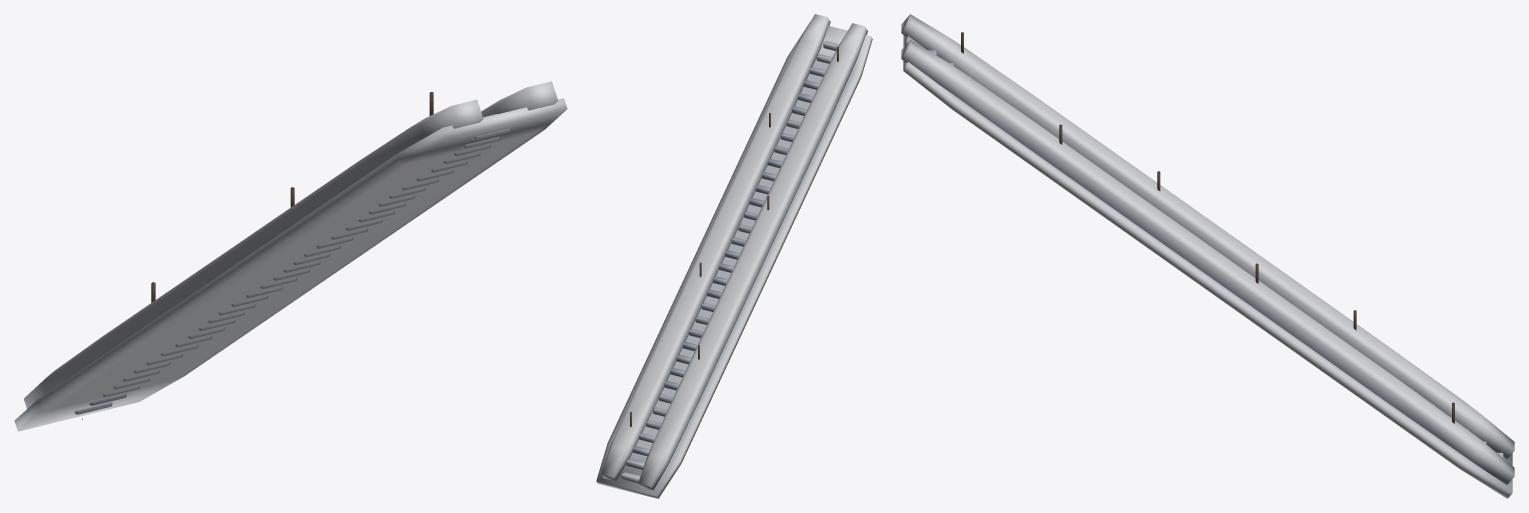
The model's file is bootpack.glb.
3 renders of one model, left to right at view 1: azimuth 30°, elevation 25°; view 2: azimuth 150°, elevation 25°; view 3: azimuth 270°, elevation 25°, orthographic. The views are drawn at different scales.
Parts seen in each view (by area): view 1: bootpack_snow; view 2: bootpack_snow; view 3: bootpack_snow.
Part boxes in pixels (x1,y1,x2,y2): bootpack_snow: (14, 81, 567, 431); bootpack_snow: (596, 14, 872, 498); bootpack_snow: (901, 14, 1514, 498).
Bounding box in the file's own units: 2.4 × 10.05 × 12.5.
2 materials, 1 textured.
